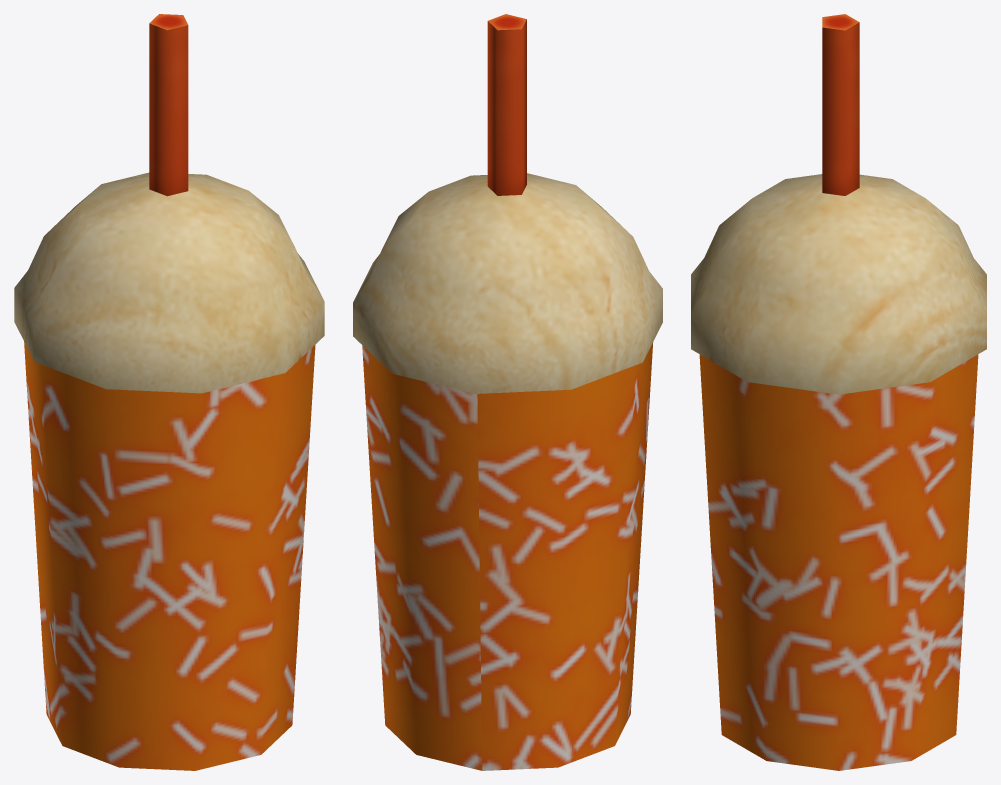
File: CafeFood01_12.FBX
The picture shows the model from 3 angles, left to right: view 1: azimuth 30°, elevation 25°; view 2: azimuth 150°, elevation 25°; view 3: azimuth 270°, elevation 25°; orthographic projection.
Visible parts, largest first — view 1: CafeFood01_12; view 2: CafeFood01_12; view 3: CafeFood01_12.
Part boxes in pixels (bbox=[...]): CafeFood01_12: bbox=[14, 14, 324, 770]; CafeFood01_12: bbox=[353, 14, 662, 770]; CafeFood01_12: bbox=[691, 14, 986, 770].
Size of what is drawn, in the model's own units: 0.1085 by 0.2682 by 0.1032.
